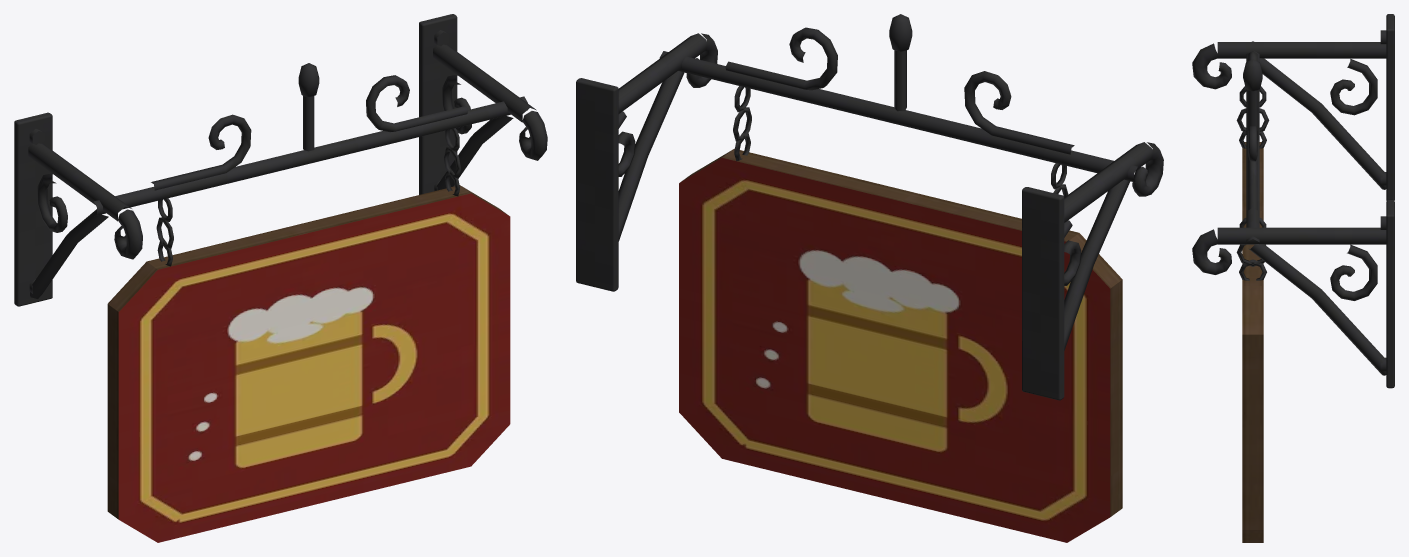
Rendered from sign_tavern.glb.
3 renders of one model, left to right at view 1: azimuth 30°, elevation 25°; view 2: azimuth 150°, elevation 25°; view 3: azimuth 270°, elevation 25°, orthographic. The views are drawn at different scales.
Parts seen in each view (by area): view 1: prop; view 2: prop; view 3: prop.
Part boxes in pixels (x1,y1,x2,y2): prop: [14, 14, 547, 542]; prop: [576, 14, 1163, 542]; prop: [1192, 14, 1394, 542].
Size of what is drawn, in the model's own units: 0.675 by 0.641 by 0.2858.
3 materials, 3 textured.
